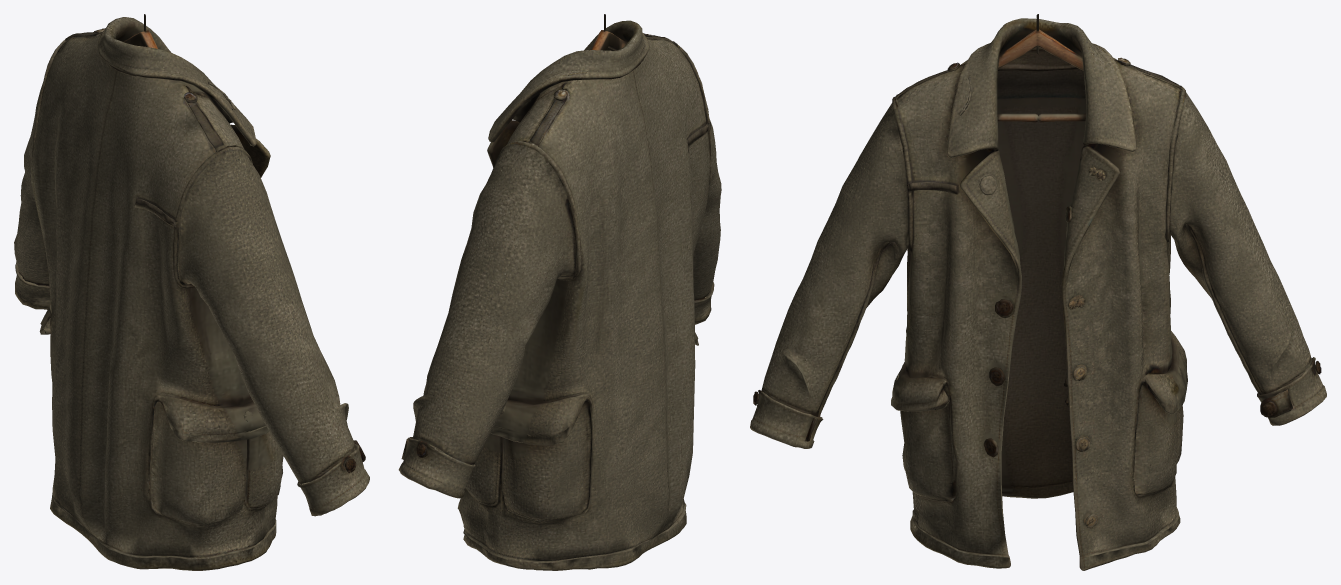
The picture shows the model from 3 angles, left to right: view 1: azimuth 30°, elevation 25°; view 2: azimuth 150°, elevation 25°; view 3: azimuth 270°, elevation 25°; orthographic projection. The views are drawn at different scales.
Parts seen in each view (by area): view 1: tripo_node_65c3ee34-64b6-40a6-b481-48d273e208cb; view 2: tripo_node_65c3ee34-64b6-40a6-b481-48d273e208cb; view 3: tripo_node_65c3ee34-64b6-40a6-b481-48d273e208cb.
Part boxes in pixels (x1,y1,x2,y2): tripo_node_65c3ee34-64b6-40a6-b481-48d273e208cb: (14, 14, 369, 570); tripo_node_65c3ee34-64b6-40a6-b481-48d273e208cb: (398, 14, 721, 570); tripo_node_65c3ee34-64b6-40a6-b481-48d273e208cb: (750, 14, 1326, 570).
Size of the model in its own units: 0.377 by 0.9707 by 0.998.
1 material, 1 textured.
